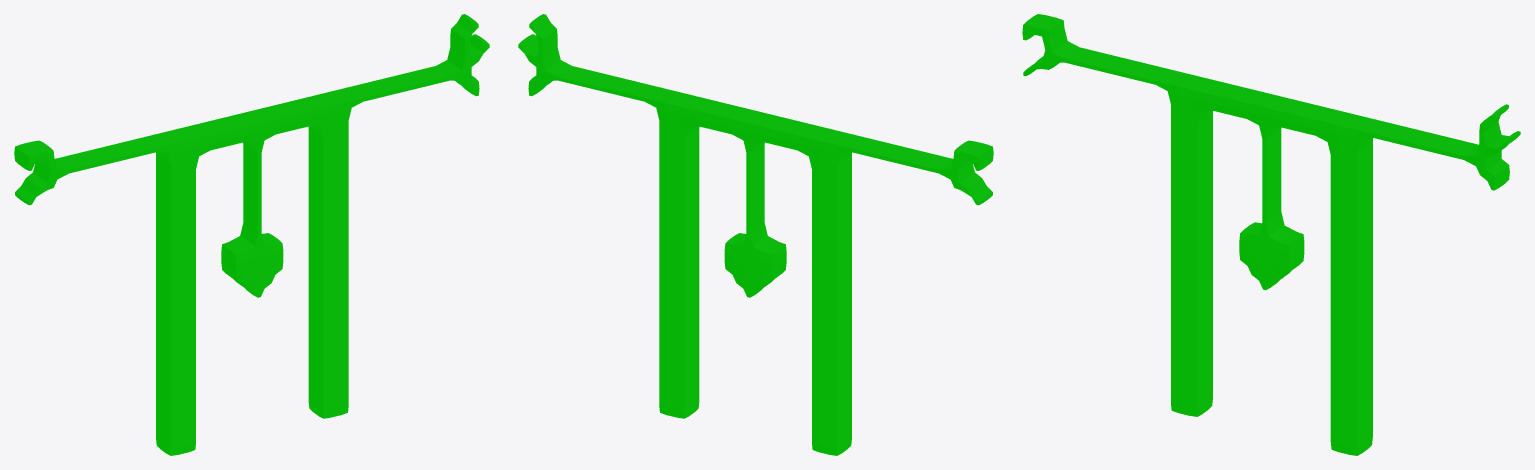
The model's file is standing1.glb.
3 renders of one model, left to right at view 1: azimuth 30°, elevation 25°; view 2: azimuth 150°, elevation 25°; view 3: azimuth 330°, elevation 25°, orthographic. The views are drawn at different scales.
Size of what is drawn, in the model's own units: 42.33 by 31.42 by 2.5.
